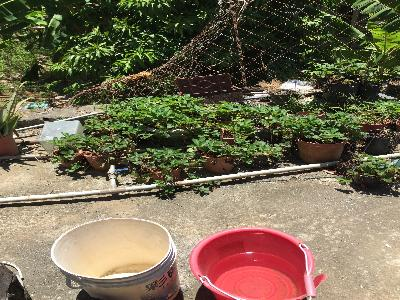box: (39, 119, 83, 153)
bucket: (51, 216, 182, 297), (188, 226, 315, 300)
